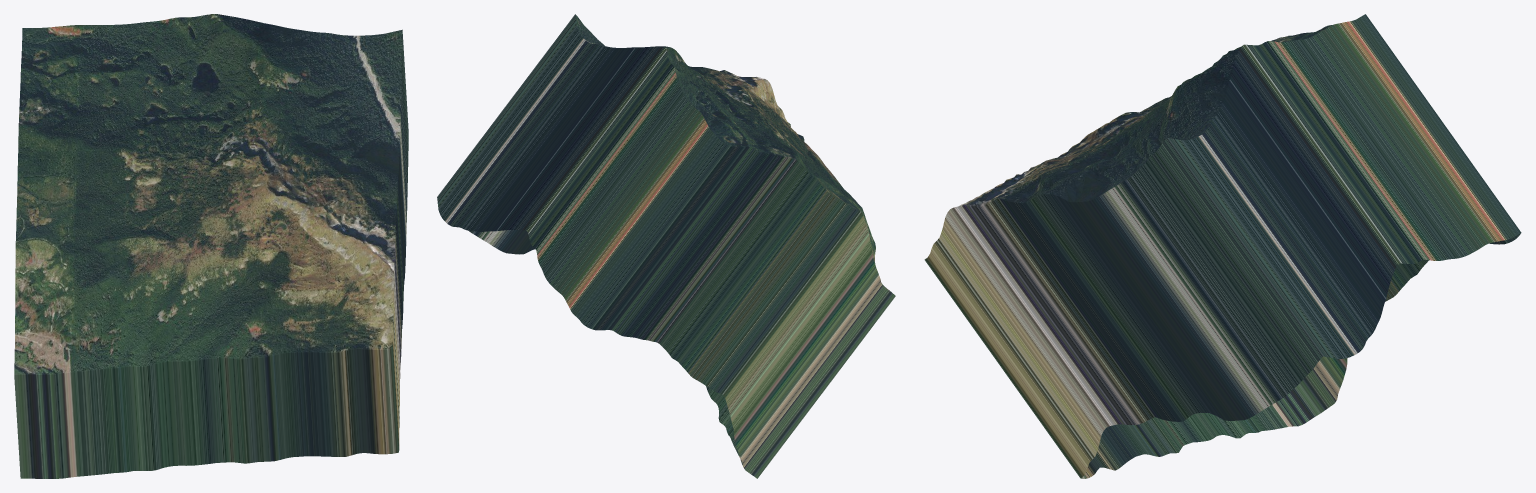
3 renders of one model, left to right at view 1: azimuth 30°, elevation 25°; view 2: azimuth 150°, elevation 25°; view 3: azimuth 270°, elevation 25°, orthographic. The views are drawn at different scales.
Size of the model in its own units: 5909 by 5415 by 6667.
Materials: 1 (1 with a texture image).
